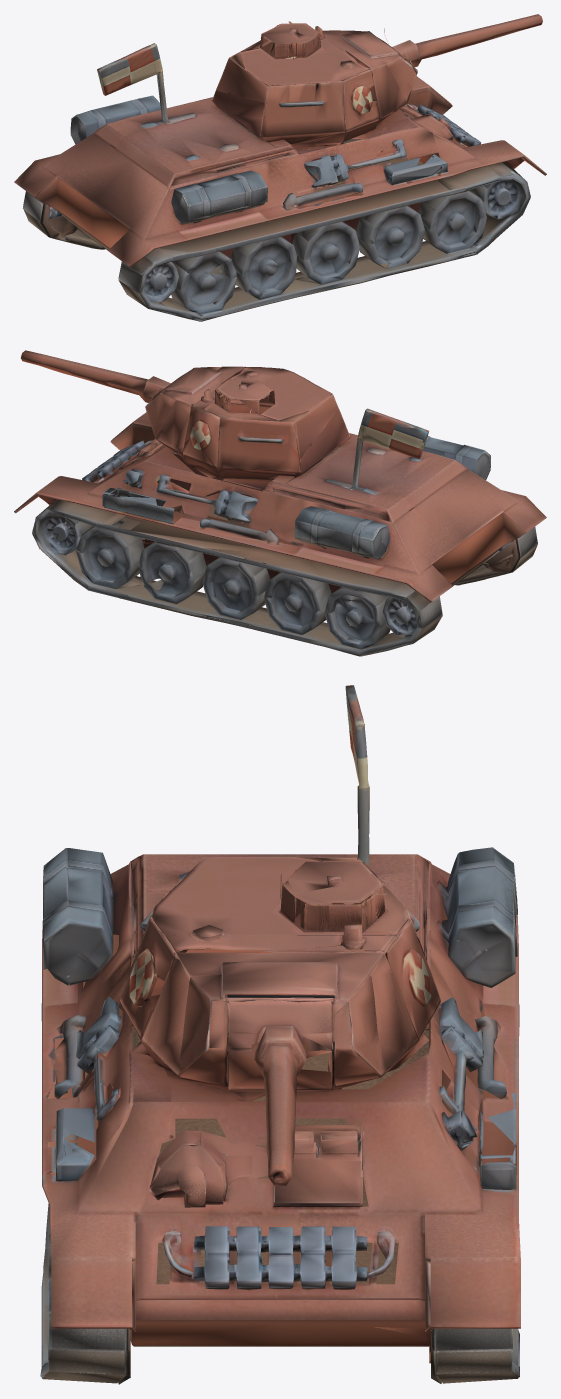
The picture shows the model from 3 angles, top to bottom: view 1: azimuth 30°, elevation 25°; view 2: azimuth 150°, elevation 25°; view 3: azimuth 270°, elevation 25°; orthographic projection. The views are drawn at different scales.
Visible parts, largest first — view 1: tripo_part_0, tripo_part_1, tripo_part_17, tripo_part_21, tripo_part_16, tripo_part_28, tripo_part_9, tripo_part_10, tripo_part_5, tripo_part_13, tripo_part_18, tripo_part_4 (+15 smaller); view 2: tripo_part_0, tripo_part_2, tripo_part_6, tripo_part_20, tripo_part_16, tripo_part_15, tripo_part_11, tripo_part_12, tripo_part_7, tripo_part_8, tripo_part_3, tripo_part_21 (+14 smaller); view 3: tripo_part_0, tripo_part_16, tripo_part_21, tripo_part_14, tripo_part_15, tripo_part_28, tripo_part_26, tripo_part_22, tripo_part_25, tripo_part_32, tripo_part_19, tripo_part_1 (+14 smaller).
Part boxes in pixels (left/top/right/bottom): tripo_part_0: left=14, top=76, right=546, bottom=267; tripo_part_1: left=188, top=162, right=530, bottom=321; tripo_part_17: left=213, top=39, right=344, bottom=148; tripo_part_21: left=240, top=39, right=379, bottom=141; tripo_part_16: left=314, top=30, right=416, bottom=118; tripo_part_28: left=171, top=170, right=267, bottom=224; tripo_part_9: left=292, top=221, right=359, bottom=284; tripo_part_10: left=356, top=205, right=424, bottom=268; tripo_part_5: left=418, top=190, right=486, bottom=253; tripo_part_13: left=230, top=236, right=296, bottom=299; tripo_part_18: left=171, top=251, right=237, bottom=314; tripo_part_4: left=118, top=248, right=202, bottom=321; tripo_part_0: left=14, top=412, right=546, bottom=602; tripo_part_2: left=32, top=499, right=414, bottom=601; tripo_part_6: left=105, top=576, right=442, bottom=656; tripo_part_20: left=217, top=417, right=300, bottom=478; tripo_part_16: left=145, top=366, right=244, bottom=454; tripo_part_15: left=294, top=506, right=390, bottom=559; tripo_part_11: left=76, top=520, right=144, bottom=589; tripo_part_12: left=138, top=540, right=206, bottom=603; tripo_part_7: left=202, top=557, right=270, bottom=619; tripo_part_8: left=264, top=572, right=331, bottom=634; tripo_part_3: left=324, top=587, right=390, bottom=649; tripo_part_21: left=204, top=366, right=329, bottom=420; tripo_part_0: left=42, top=854, right=520, bottom=1346; tripo_part_16: left=141, top=933, right=419, bottom=1075; tripo_part_21: left=120, top=857, right=396, bottom=1065; tripo_part_14: left=194, top=1226, right=395, bottom=1290; tripo_part_15: left=437, top=847, right=517, bottom=987; tripo_part_28: left=42, top=848, right=113, bottom=985; tripo_part_26: left=134, top=1001, right=418, bottom=1101; tripo_part_22: left=149, top=1131, right=268, bottom=1207; tripo_part_25: left=280, top=860, right=387, bottom=932; tripo_part_32: left=227, top=1001, right=333, bottom=1090; tripo_part_19: left=273, top=1124, right=362, bottom=1207; tripo_part_1: left=40, top=1203, right=130, bottom=1384.
Size of the model in its own units: 0.979 by 0.4261 by 0.4373.
Materials: 46 (46 with a texture image).
